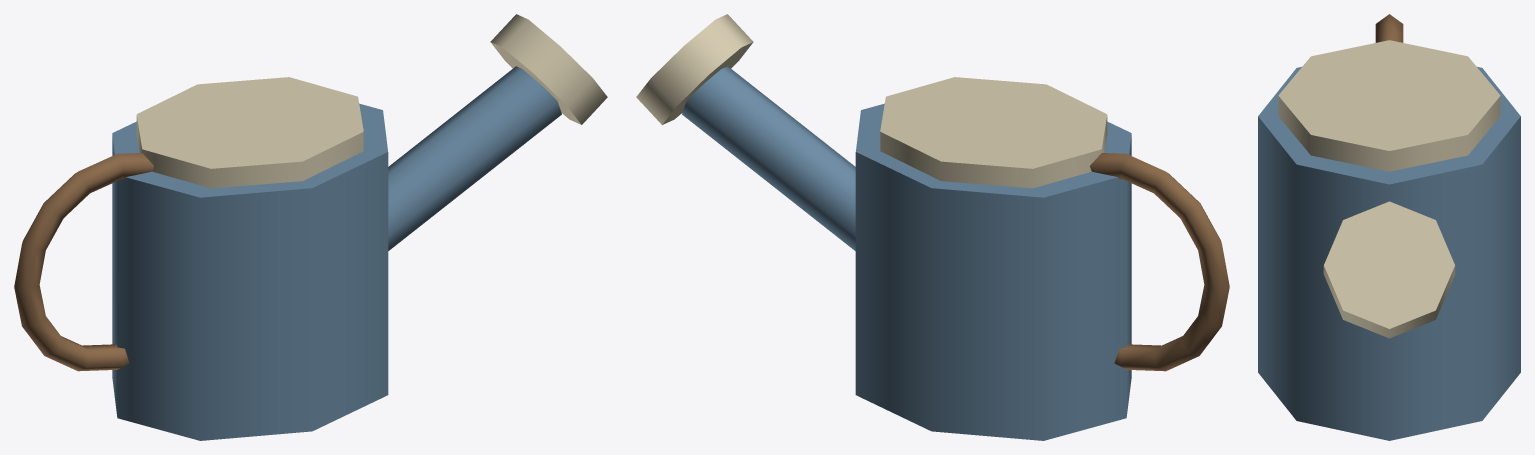
Rendered from tool-watering-can.glb.
3 renders of one model, left to right at view 1: azimuth 30°, elevation 25°; view 2: azimuth 150°, elevation 25°; view 3: azimuth 270°, elevation 25°, orthographic. The views are drawn at different scales.
Parts seen in each view (by area): view 1: tool-watering-can-visual; view 2: tool-watering-can-visual; view 3: tool-watering-can-visual.
Part boxes in pixels (box(x1,y1,x2,y2)): tool-watering-can-visual: box(14, 14, 607, 440); tool-watering-can-visual: box(636, 14, 1229, 440); tool-watering-can-visual: box(1258, 14, 1520, 440).
Size of the model in its own units: 0.7004 by 0.3433 by 0.26.
